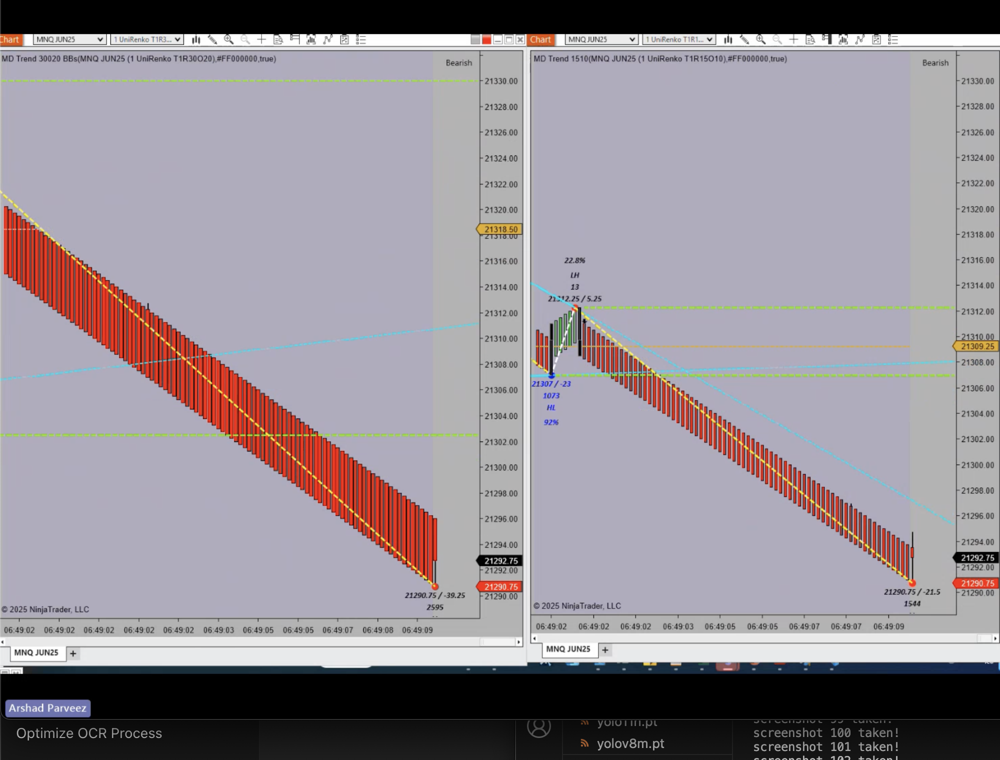HL: (541, 399, 560, 415)
LH: (567, 266, 586, 284)
